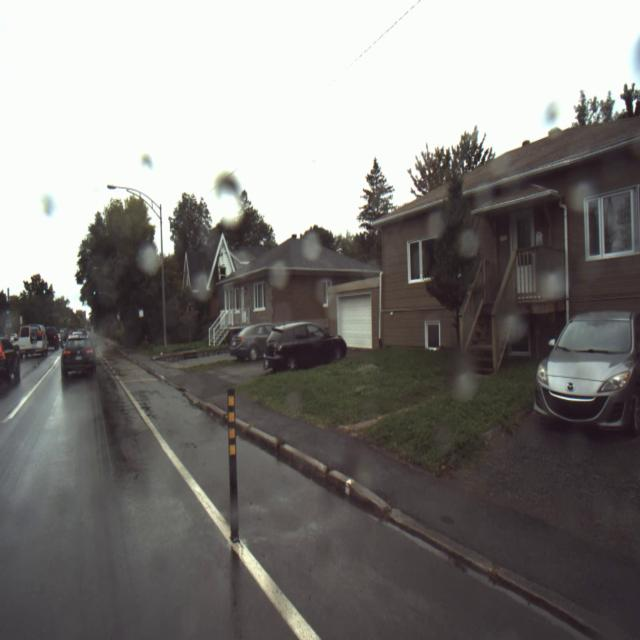car: (532, 309, 636, 435), (266, 322, 347, 371), (60, 334, 97, 384), (228, 323, 271, 363), (0, 334, 23, 387), (19, 324, 48, 358)
